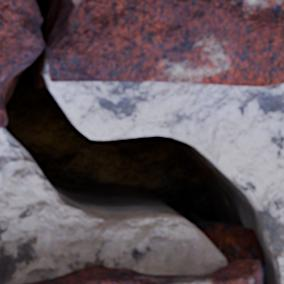brick: (31, 261, 261, 283)
broken_brick: (50, 0, 283, 87), (0, 0, 42, 87), (0, 97, 5, 129)
crack: (0, 0, 281, 283)
